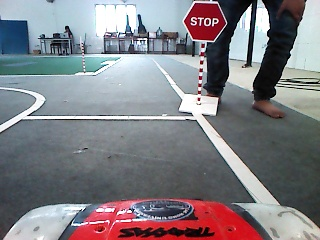stop: (179, 1, 229, 44)
